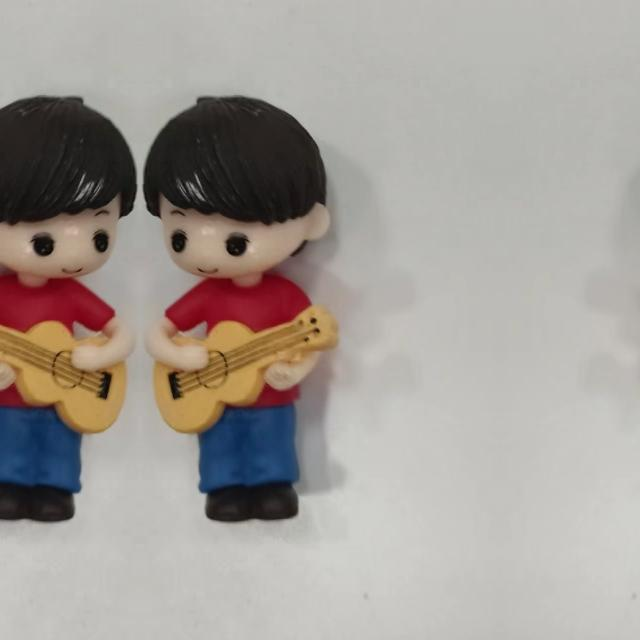man cloth: (152, 276, 330, 409), (0, 276, 128, 409)
man head: (142, 91, 332, 286), (0, 91, 138, 286)
trousers: (188, 400, 318, 532), (0, 399, 92, 532)
